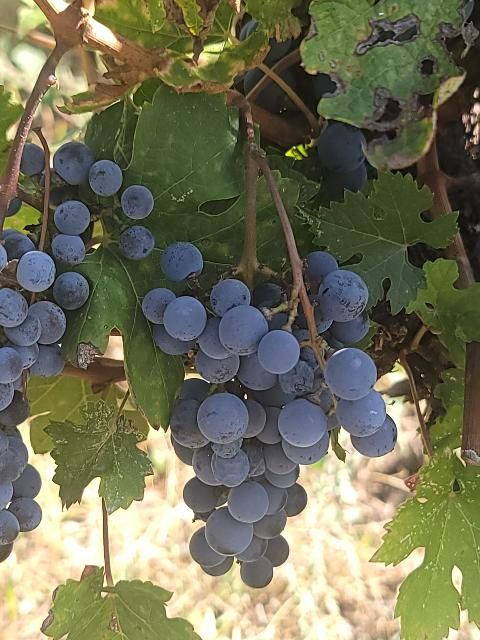grapes: (141, 251, 398, 588), (0, 200, 90, 558)
